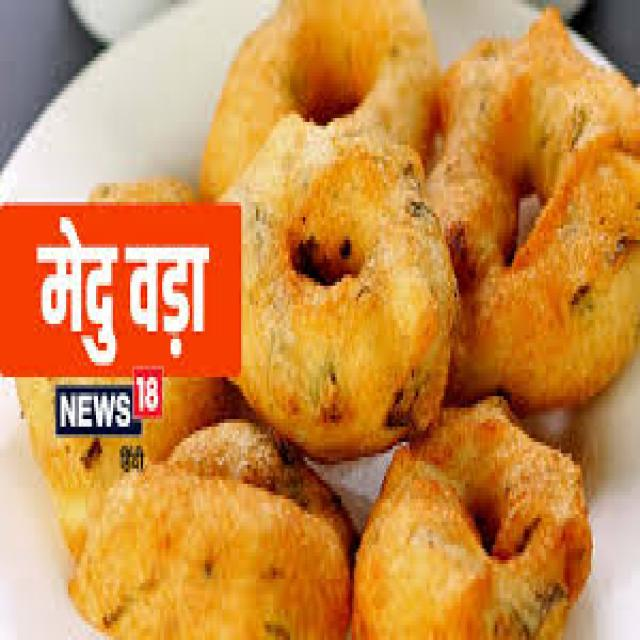MEDU VADA: (217, 108, 468, 465), (432, 21, 638, 412), (66, 418, 361, 636), (359, 398, 587, 636), (199, 0, 436, 201)
